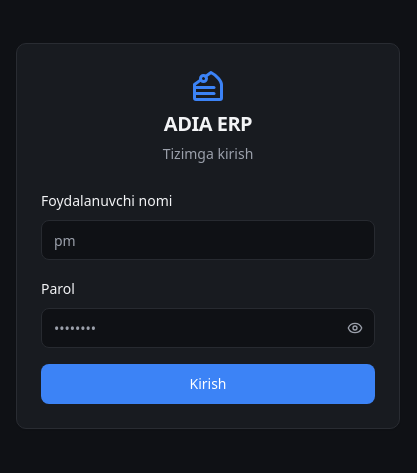
Test case: LoginPage › shows an Uzbek error message on invalid credentials (401)
Type "x@adia.local" into the field labelled "Foydalanuvchi nomi" at (208, 240), box [41,220,375,260]
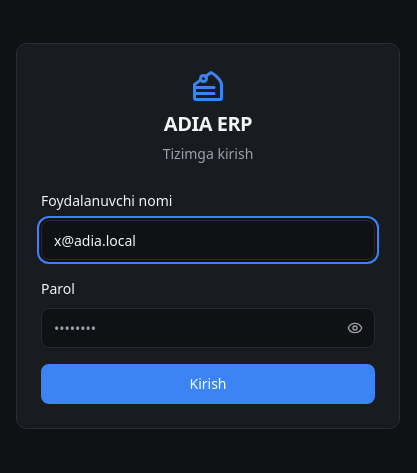
Type "wrongpass" into the password field labelled "Parol" at (208, 328), box [41,308,375,348]
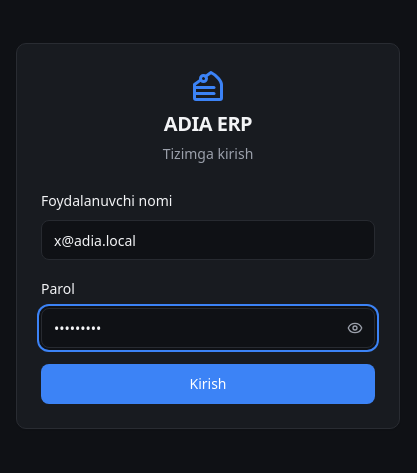
Click the button "Kirish" at (208, 384), box [41,364,375,404]
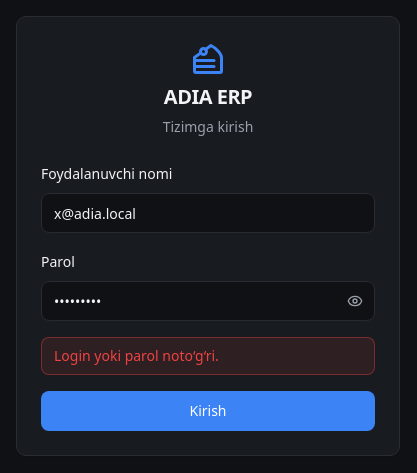
Result: the message reads "Login yoki parol noto‘g‘ri." at [54,346,219,365]
